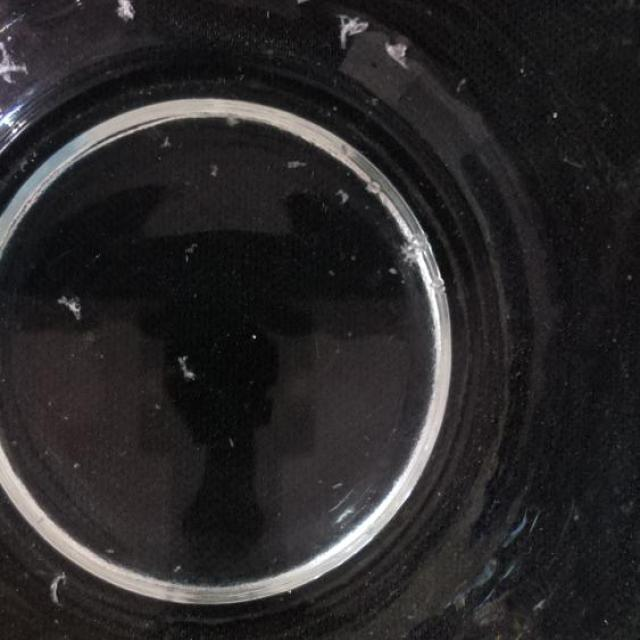fiber: (339, 9, 367, 56), (384, 31, 412, 77), (0, 34, 23, 90), (56, 288, 88, 328), (46, 562, 67, 611), (176, 352, 199, 388), (116, 0, 138, 23), (222, 105, 245, 125), (186, 235, 202, 261), (158, 131, 177, 151), (332, 186, 352, 203), (285, 160, 311, 172)
